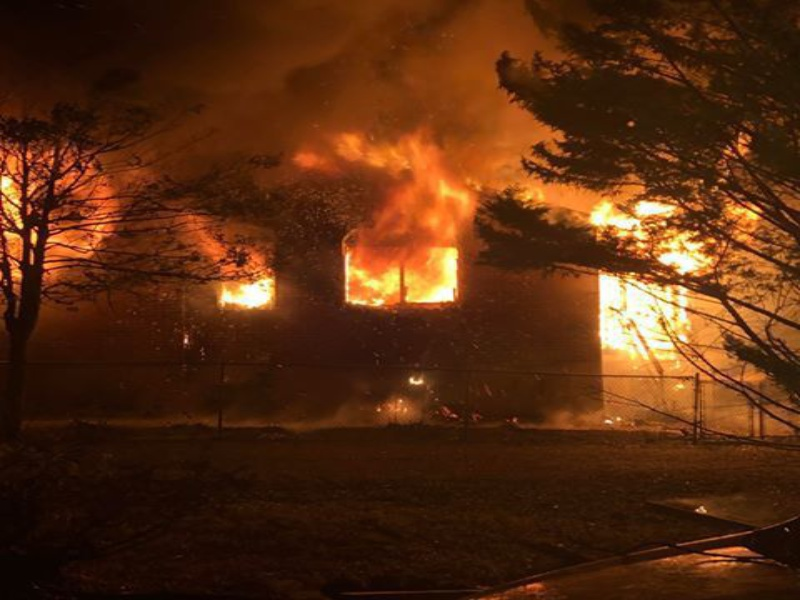fire: (602, 184, 686, 357), (343, 246, 459, 312), (209, 259, 284, 310)
